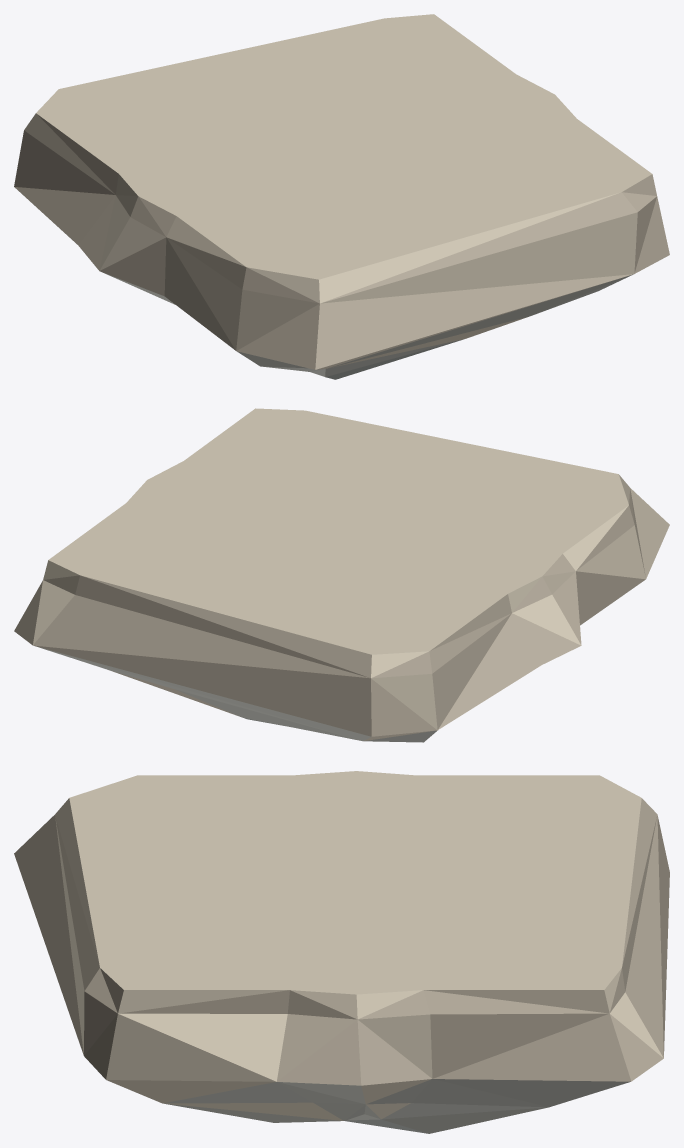
File: Plataforma4.fbx
The picture shows the model from 3 angles, top to bottom: view 1: azimuth 30°, elevation 25°; view 2: azimuth 150°, elevation 25°; view 3: azimuth 270°, elevation 25°; orthographic projection. The views are drawn at different scales.
Visible parts, largest first — view 1: PlataformaPedra_04; view 2: PlataformaPedra_04; view 3: PlataformaPedra_04.
Boxes of the visible parts, <box> form: PlataformaPedra_04: <box>14,14,669,379</box>; PlataformaPedra_04: <box>14,408,669,742</box>; PlataformaPedra_04: <box>14,771,669,1133</box>.
Bounding box in the file's own units: 767 × 335 × 805.
